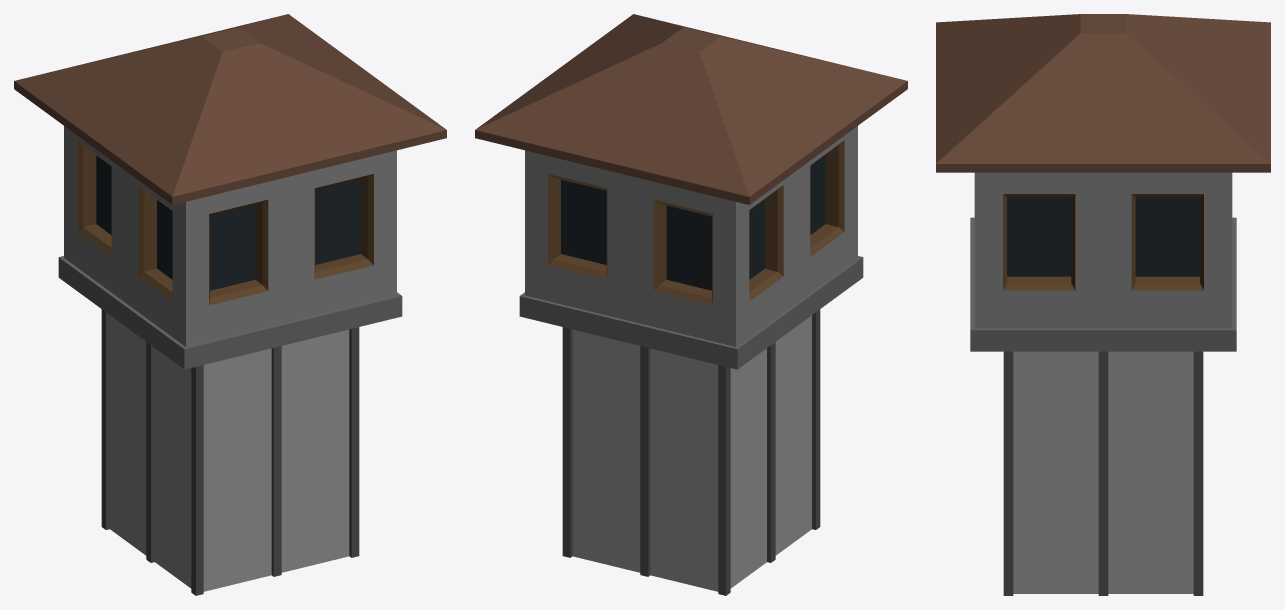
The model's file is tower1.fbx.
3 renders of one model, left to right at view 1: azimuth 30°, elevation 25°; view 2: azimuth 150°, elevation 25°; view 3: azimuth 270°, elevation 25°, orthographic. The views are drawn at different scales.
Parts seen in each view (by area): view 1: Tower; view 2: Tower; view 3: Tower.
Boxes of the visible parts, left/top/right/bottom form: Tower: left=14, top=14, right=446, bottom=595; Tower: left=475, top=14, right=907, bottom=595; Tower: left=936, top=14, right=1270, bottom=595.
Bounding box in the file's own units: 705 × 1232 × 705.
